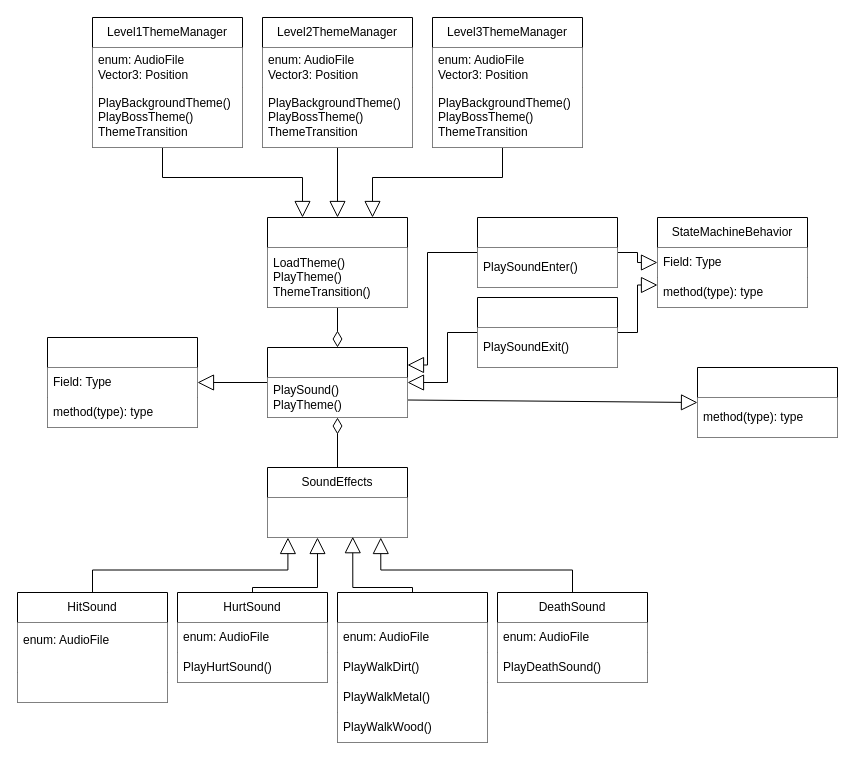
The diagram is 855 pixels wide and 760 high, and some of its shapes have lost their labels. Each missing label, with the box of its shape:
Game Object Manager: (696, 366, 838, 438)
MonoBehavior: (46, 336, 198, 428)
PlayHitSound(): (17, 672, 167, 702)
PlayOnAnimationExit: (476, 296, 618, 368)
PlayOnAnimationStart: (476, 216, 618, 288)
PlaySfx() PlaySfxExit(): (267, 497, 407, 537)
SoundManager: (266, 346, 408, 418)
Themes: (266, 216, 408, 308)
WalkSound: (336, 592, 488, 742)
